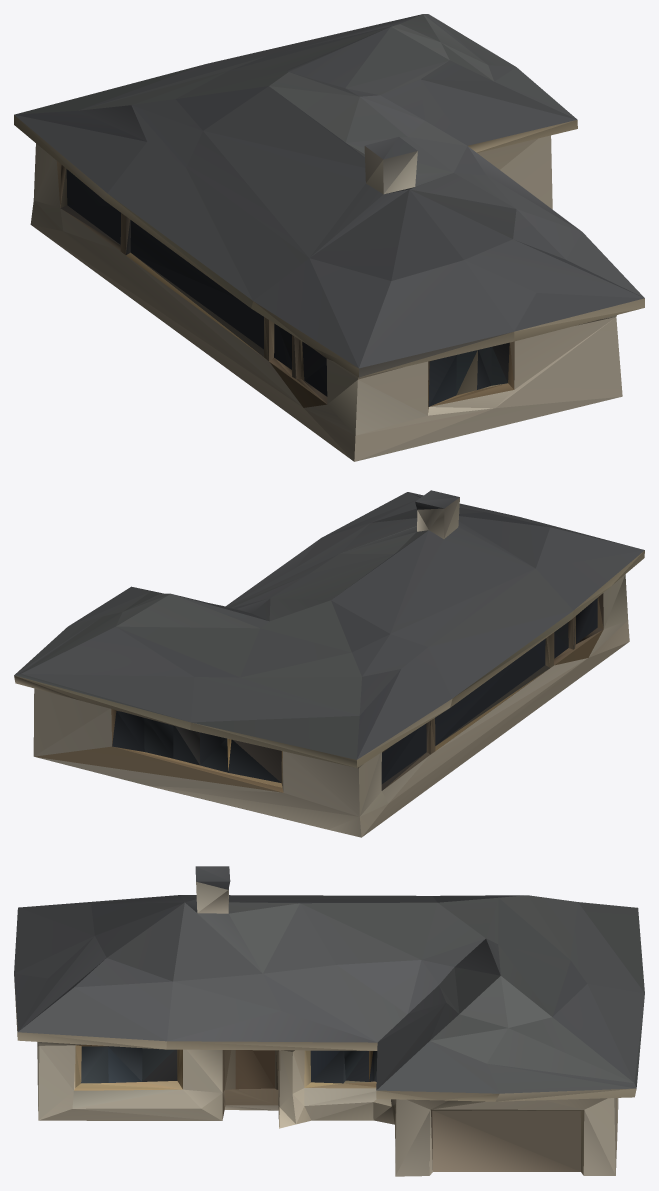
Rendered from house-ranch.glb.
The picture shows the model from 3 angles, top to bottom: view 1: azimuth 30°, elevation 25°; view 2: azimuth 150°, elevation 25°; view 3: azimuth 270°, elevation 25°; orthographic projection. The views are drawn at different scales.
Visible parts, largest first — view 1: house-ranch_LOD0; view 2: house-ranch_LOD0; view 3: house-ranch_LOD0.
Boxes of the visible parts, left/top/right/bottom form: house-ranch_LOD0: left=14, top=14, right=644, bottom=461; house-ranch_LOD0: left=14, top=490, right=644, bottom=837; house-ranch_LOD0: left=14, top=866, right=644, bottom=1176.
Size of what is drawn, in the model's own units: 10.72 by 4.98 by 14.99.
